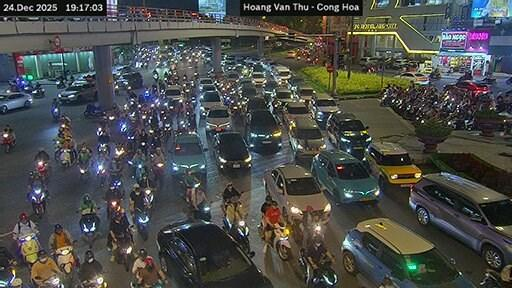motorbike: (298, 248, 336, 286), (288, 215, 323, 246), (54, 246, 76, 283), (269, 225, 291, 260), (80, 208, 99, 247), (227, 220, 248, 252), (115, 234, 133, 270), (18, 233, 38, 265), (28, 184, 44, 216), (134, 207, 149, 239), (480, 270, 508, 286), (106, 194, 121, 220), (77, 274, 106, 286), (38, 274, 64, 287), (192, 202, 210, 220), (0, 131, 15, 152), (0, 265, 15, 286), (35, 161, 50, 181), (58, 148, 71, 170), (96, 160, 106, 184), (77, 160, 89, 180), (153, 162, 163, 185), (83, 103, 102, 115), (109, 171, 121, 189), (144, 188, 153, 212), (134, 162, 146, 180), (31, 86, 44, 97), (51, 106, 60, 121), (480, 76, 495, 84), (98, 143, 109, 153), (428, 71, 441, 79), (56, 79, 64, 88), (505, 76, 511, 84), (258, 225, 262, 237), (224, 216, 226, 229), (35, 275, 38, 279)
